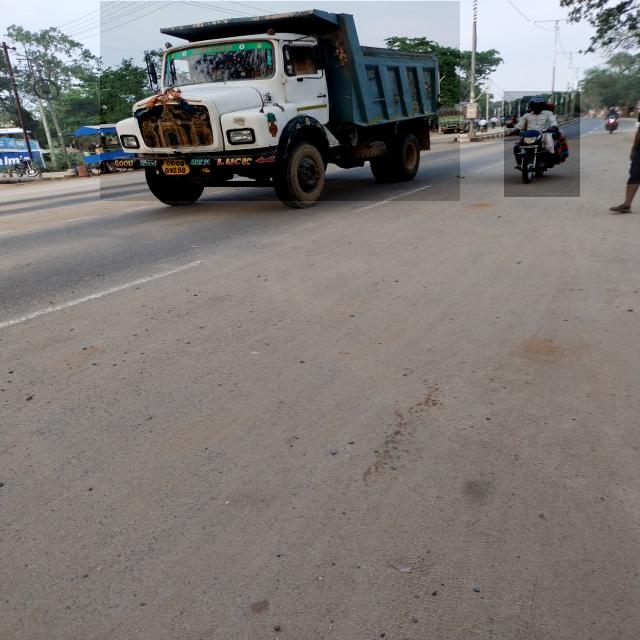Bike: (504, 91, 580, 197)
Truck: (100, 2, 460, 202)
